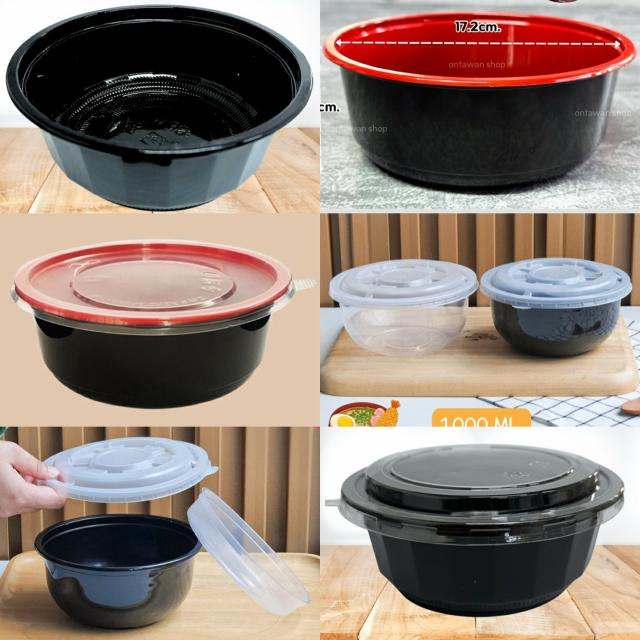Single-Use-Plastic: (6, 5, 313, 209), (323, 12, 635, 187), (325, 445, 624, 616), (11, 240, 315, 408), (35, 515, 201, 628), (188, 489, 310, 616), (479, 258, 632, 357), (329, 259, 478, 356), (44, 436, 218, 502)
